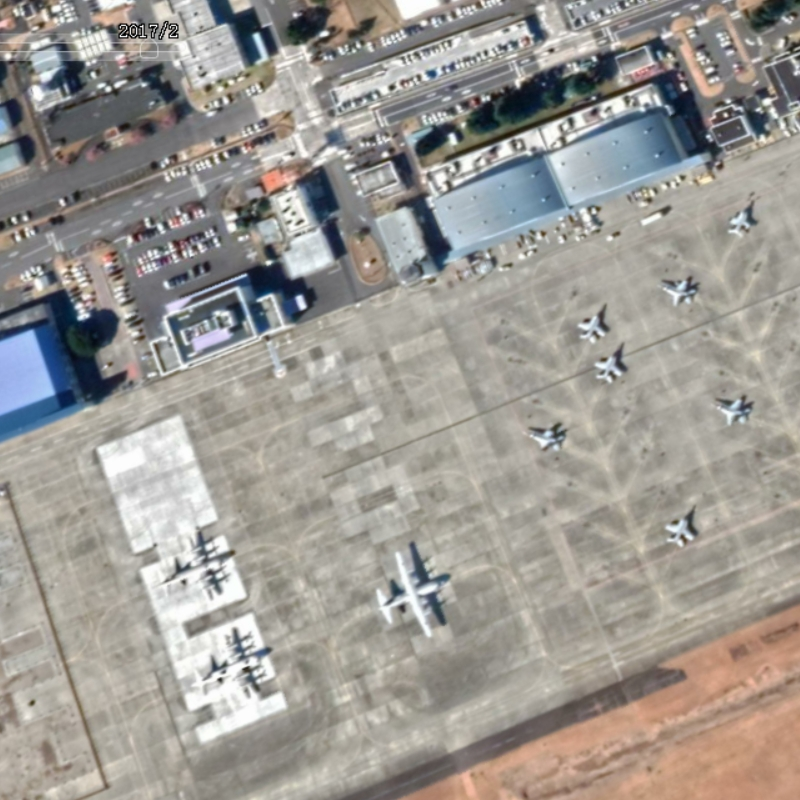A16: (656, 497, 705, 550), (705, 389, 759, 429), (651, 271, 707, 309), (571, 298, 615, 345), (519, 417, 572, 455), (588, 343, 632, 387), (723, 195, 765, 239)
A2: (362, 545, 454, 644)
A9: (190, 624, 282, 706), (151, 521, 237, 602)
